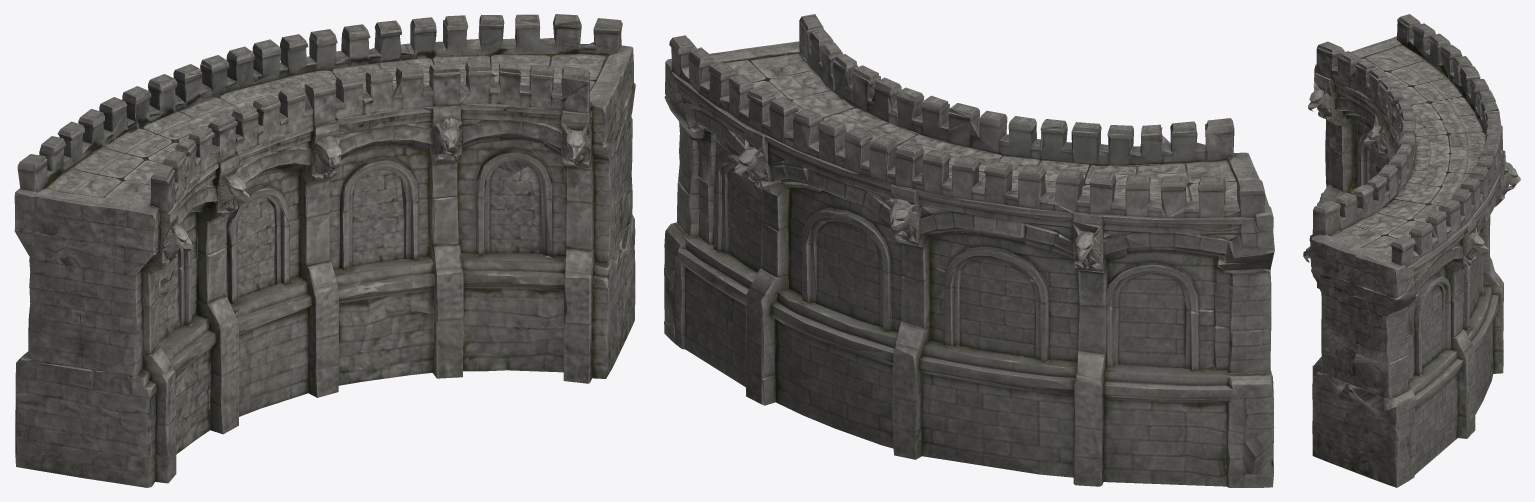
The model's file is gargoyle_wall.glb.
The picture shows the model from 3 angles, left to right: view 1: azimuth 30°, elevation 25°; view 2: azimuth 150°, elevation 25°; view 3: azimuth 270°, elevation 25°; orthographic projection. The views are drawn at different scales.
Visible parts, largest first — view 1: gargoyle_wall; view 2: gargoyle_wall; view 3: gargoyle_wall.
Part boxes in pixels (x1,y1,x2,y2): gargoyle_wall: (14, 14, 635, 487); gargoyle_wall: (664, 14, 1274, 487); gargoyle_wall: (1303, 14, 1520, 487).
Bounding box in the file's own units: 1.9 × 0.9039 × 0.7315.
1 material, 1 textured.
